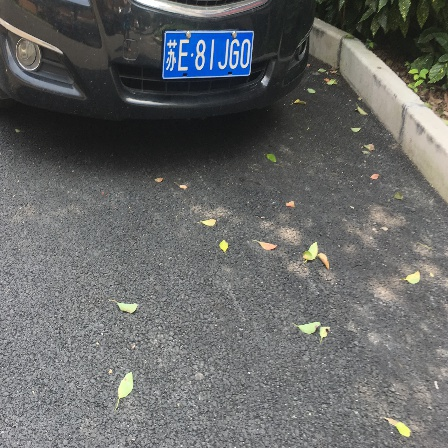plate: (162, 25, 260, 88)
